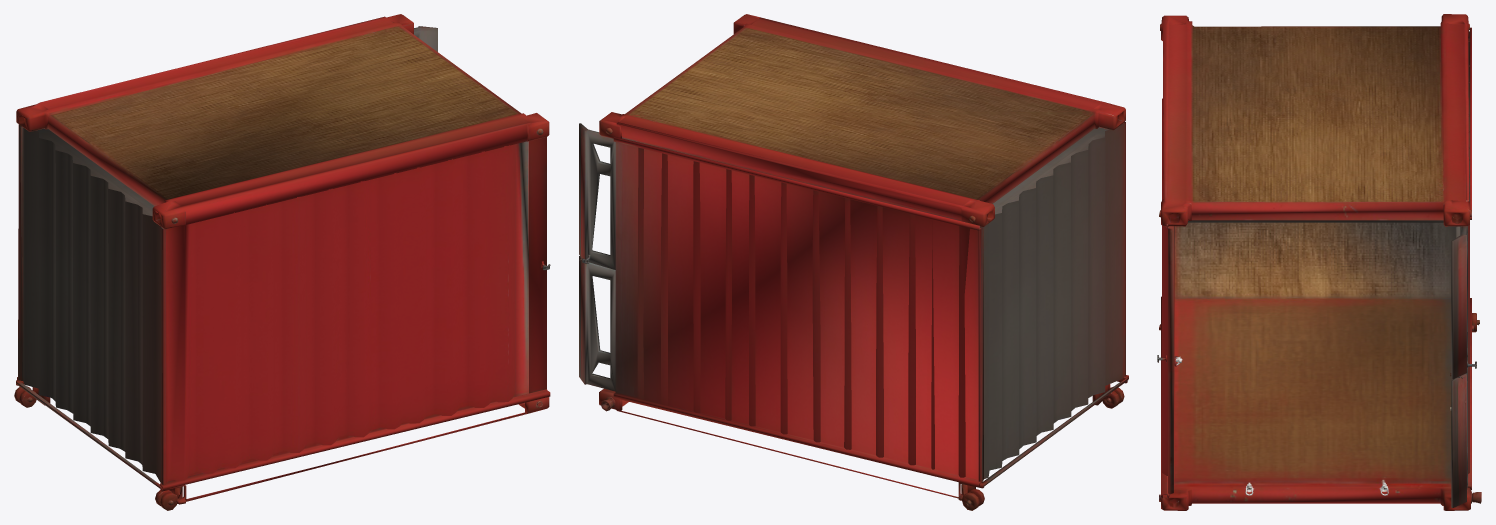
File: container.glb
3 views of the same model, side by side, from view 1: azimuth 30°, elevation 25°; view 2: azimuth 150°, elevation 25°; view 3: azimuth 270°, elevation 25° (orthographic). The views are drawn at different scales.
Parts seen in each view (by area): view 1: tripo_node_4c4b66dc-fb49-4e9f-a1d4-f4269baaebd5; view 2: tripo_node_4c4b66dc-fb49-4e9f-a1d4-f4269baaebd5; view 3: tripo_node_4c4b66dc-fb49-4e9f-a1d4-f4269baaebd5.
Part boxes in pixels (left/top/right/bottom): tripo_node_4c4b66dc-fb49-4e9f-a1d4-f4269baaebd5: left=14, top=14, right=550, bottom=510; tripo_node_4c4b66dc-fb49-4e9f-a1d4-f4269baaebd5: left=579, top=14, right=1128, bottom=510; tripo_node_4c4b66dc-fb49-4e9f-a1d4-f4269baaebd5: left=1157, top=14, right=1481, bottom=510.
Size of the model in its own units: 0.998 by 0.6895 by 0.6465.
Materials: 1 (1 with a texture image).
